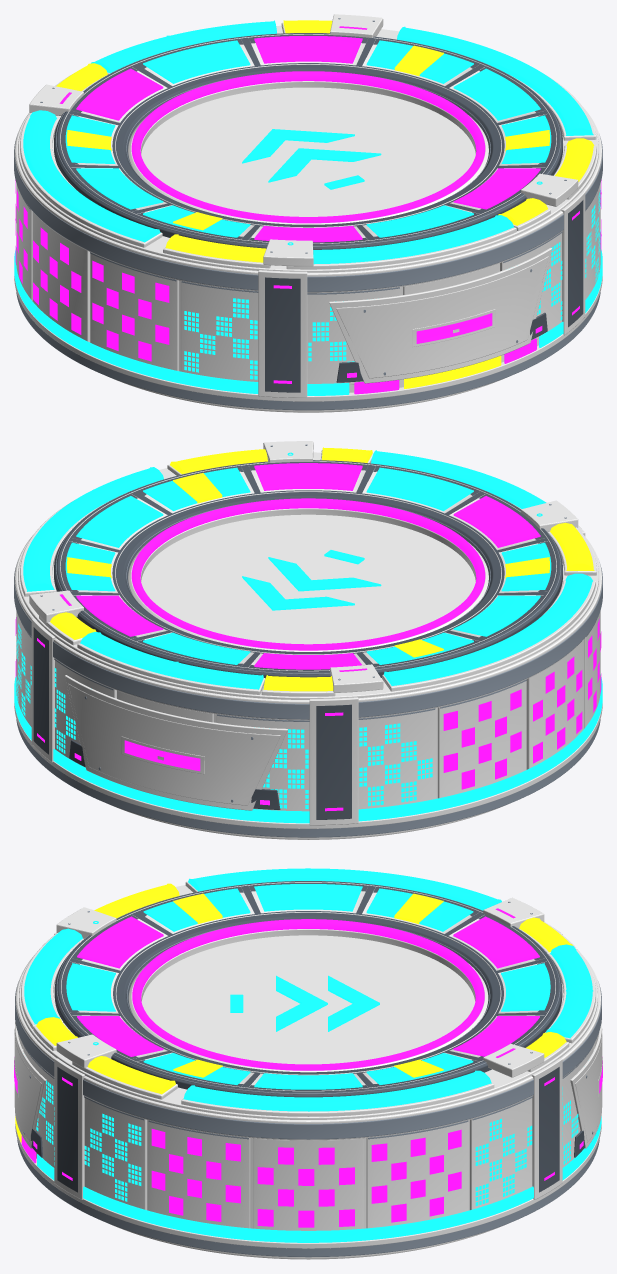
File: Toppler.fbx
3 renders of one model, top to bottom at view 1: azimuth 30°, elevation 25°; view 2: azimuth 150°, elevation 25°; view 3: azimuth 270°, elevation 25°, orthographic.
Visible parts, largest first — view 1: SM_Puck_Toppler_RetroArcade; view 2: SM_Puck_Toppler_RetroArcade; view 3: SM_Puck_Toppler_RetroArcade.
Boxes of the visible parts, x1,y1,x2,y2 form: SM_Puck_Toppler_RetroArcade: [14, 14, 602, 412]; SM_Puck_Toppler_RetroArcade: [14, 441, 602, 839]; SM_Puck_Toppler_RetroArcade: [14, 868, 602, 1259].
Bounding box in the file's own units: 90 × 90.28 × 27.
